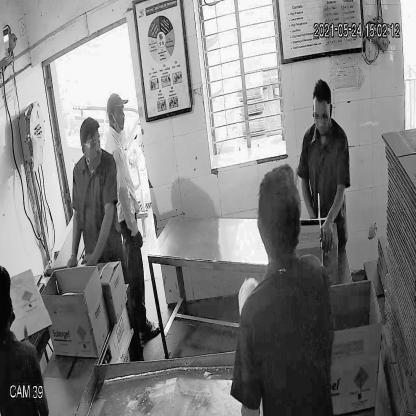goggles: (78, 132, 103, 153), (310, 106, 333, 127)
